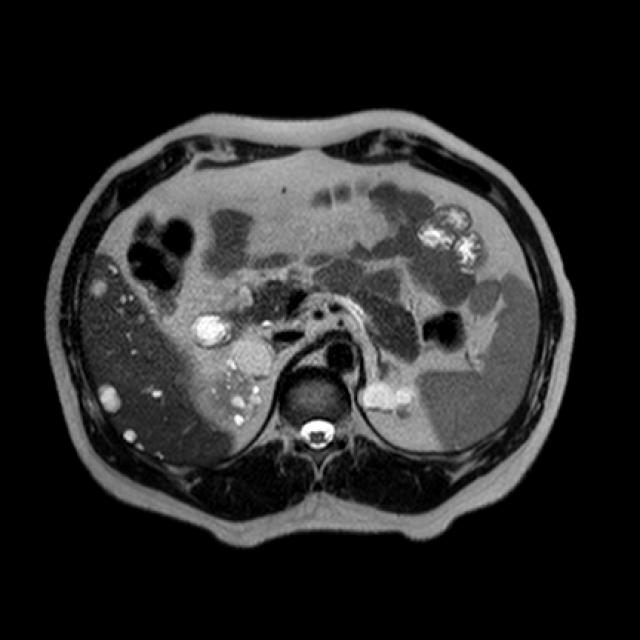sag: (199, 337, 276, 431)
sol: (361, 367, 413, 419)
